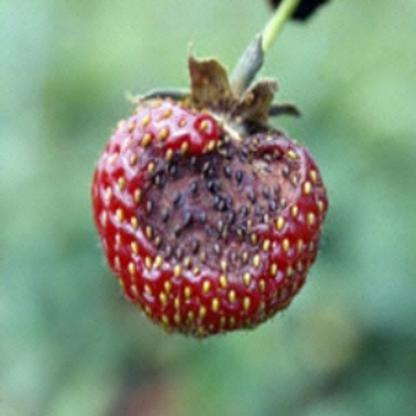Strawberry_Anthracnose_Fruit_Rot: (110, 127, 316, 289)
